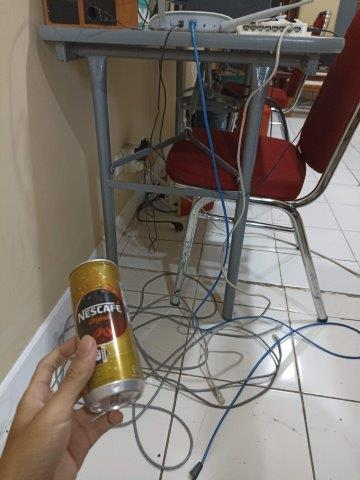kaleng: (69, 258, 145, 413)
